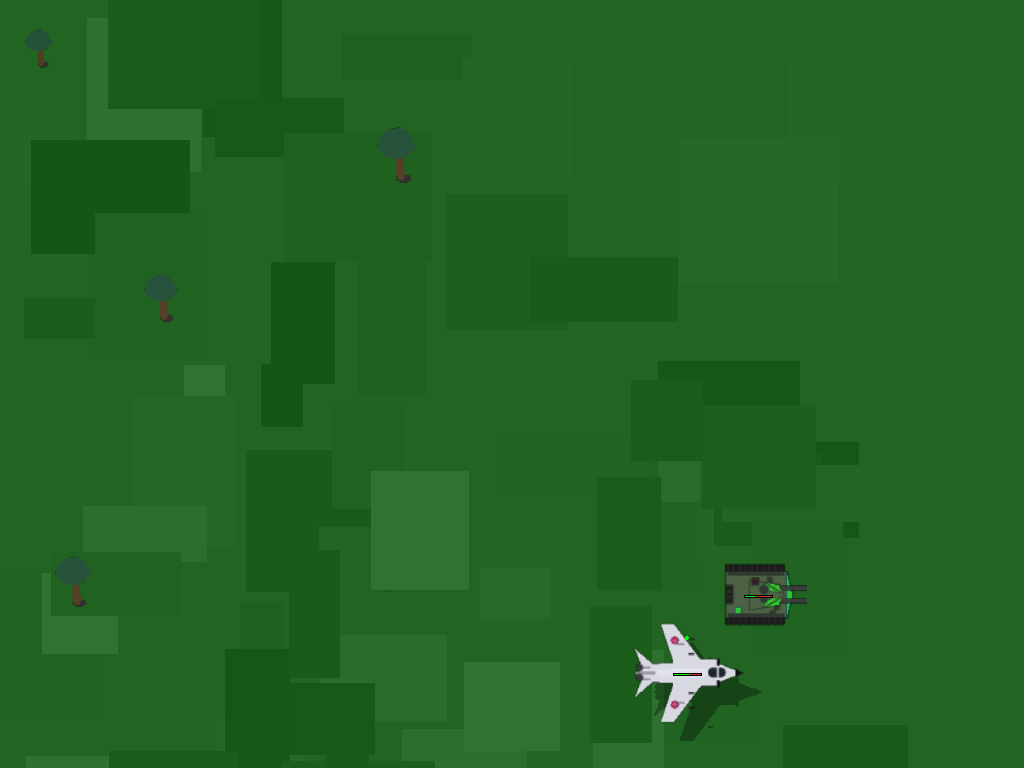AttackPlane_chn: (657, 642, 717, 702)
Type99: (725, 561, 791, 627)
